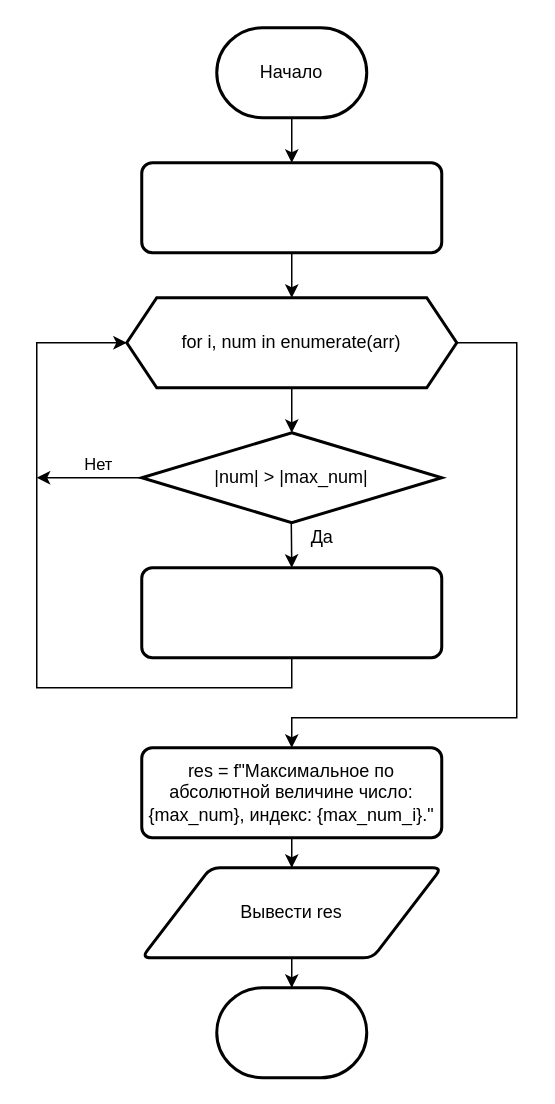
Some shapes in this 555 by 1104 pixel diagram are drawn without their labels. Here are the shapes that lost their labels. From the top down, the centre of each, then its label:
At [291,207]: "max_num = 0 max_num_i = 0".
At [291,612]: "max_num = num max_num_i = i".
At [291,1032]: "Конец".
